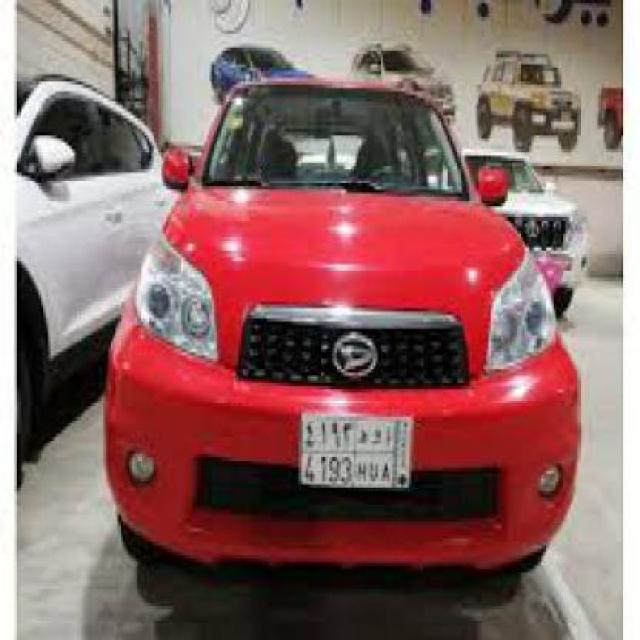license_plate: (298, 410, 414, 495)
